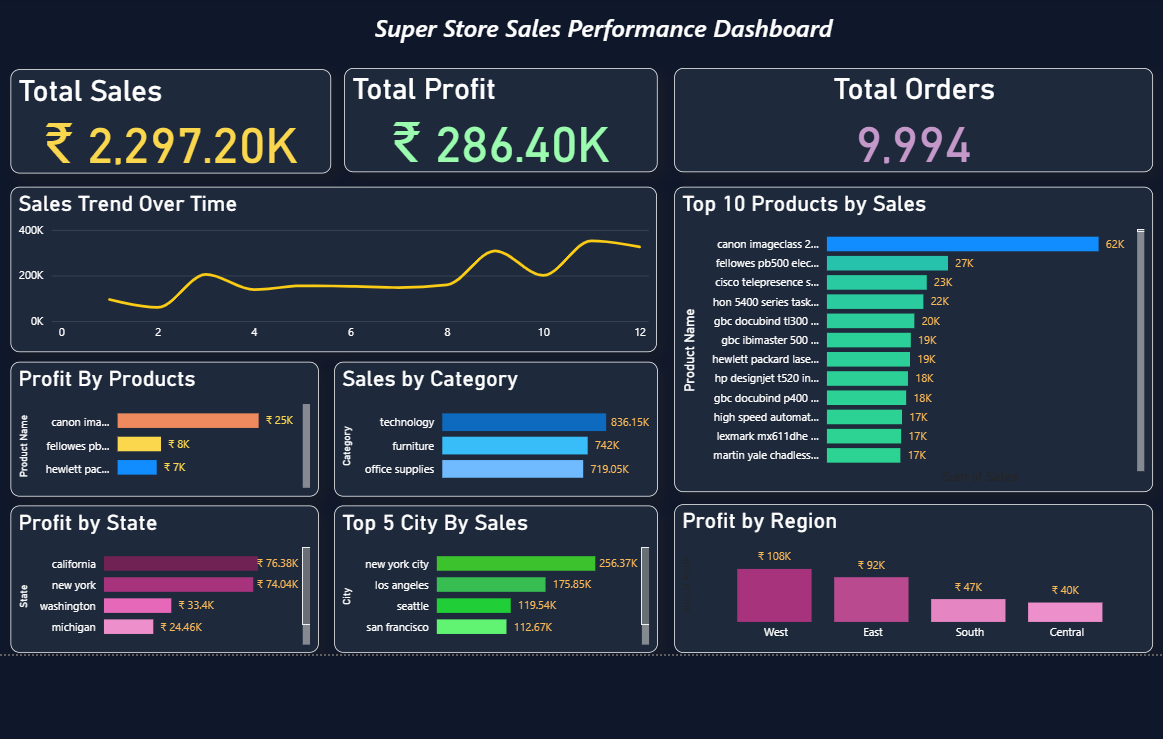

This screenshot's page, from the dashboard's own definition file:
{"tool":"powerbi","page":{"name":"Page 1","canvas":[1280,720],"ordinal":0},"visuals":[{"type":"textbox","box":[403.4,9.6,522.8,46.7],"z":0},{"type":"card","title":"Total Sales","fields":{"Values":["Sum(Sheet1.Sales)"]},"box":[14.1,78.9,352.1,114.1],"z":1000},{"type":"card","title":"Total Profit","fields":{"Values":["Sum(Sheet1.Profit)"]},"box":[380.3,77.5,343.7,114.1],"z":2000},{"type":"card","title":"Total Orders","fields":{"Values":["CountNonNull(Sheet1.Order ID)"]},"box":[742.3,77.5,525.4,114.1],"z":3000},{"type":"lineChart","title":"Sales Trend Over Time","fields":{"Y":["Sum(Sheet1.Sales)"],"Category":["Sheet1.Month"]},"box":[14.1,207,709.9,181.7],"z":4000},{"type":"clusteredBarChart","title":"Profit By Products","fields":{"Category":["Sheet1.Product Name"],"Y":["Sum(Sheet1.Profit)"]},"box":[14.1,400,338,147.9],"z":5000},{"type":"clusteredBarChart","title":"Sales by Category","fields":{"Category":["Sheet1.Category"],"Y":["Sum(Sheet1.Sales)"]},"box":[369,400,354.9,147.9],"z":6000},{"type":"clusteredBarChart","title":"Top 5 City By Sales","fields":{"Category":["Sheet1.City"],"Y":["Sum(Sheet1.Sales)"]},"box":[369,557.7,354.9,162],"z":7000},{"type":"clusteredBarChart","title":"Profit by State","fields":{"Category":["Sheet1.State"],"Y":["Sum(Sheet1.Profit)"]},"box":[14.1,557.7,338,162],"z":8000},{"type":"clusteredBarChart","title":"Top 10 Products  by Sales","fields":{"Y":["Sum(Sheet1.Sales)"],"Category":["Sheet1.Product Name"]},"box":[742.3,207,525.4,335.2],"z":9000},{"type":"columnChart","title":"Profit by Region","fields":{"Y":["Sum(Sheet1.Profit)"],"Category":["Sheet1.Region"]},"box":[742.3,556.3,525.4,163.4],"z":10000}]}

Visuals, with their boxes in screenshot pixels (x1, y1, x2, y2):
textbox: 364,18,833,60
"Total Sales" card: 16,80,331,182
"Total Profit" card: 344,79,652,181
"Total Orders" card: 668,79,1139,181
"Sales Trend Over Time" lineChart: 16,195,652,357
"Profit By Products" clusteredBarChart: 16,368,319,500
"Sales by Category" clusteredBarChart: 334,368,652,500
"Top 5 City By Sales" clusteredBarChart: 334,509,652,654
"Profit by State" clusteredBarChart: 16,509,319,654
"Top 10 Products  by Sales" clusteredBarChart: 668,195,1139,495
"Profit by Region" columnChart: 668,508,1139,654
